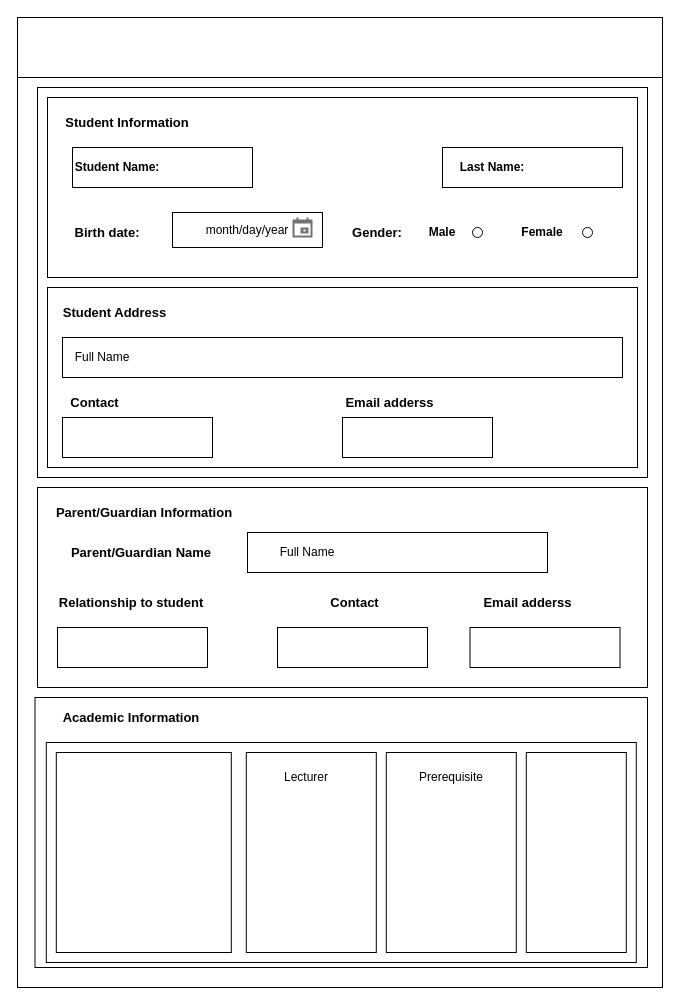
Some shapes in this 680 by 1005 pixel diagram are drawn without their labels. Each missing label, with the centre of its shape:
Semester: the point at 575,852
Student Enrollment Form: the point at 339,47
Unit selection (4 units): the point at 143,852
